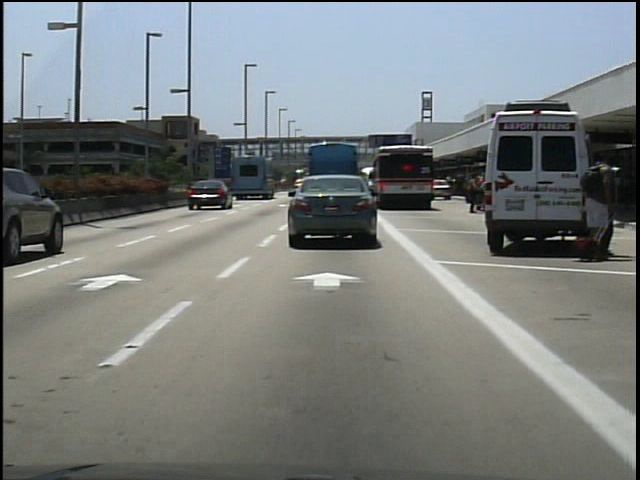person: (580, 151, 612, 266), (603, 166, 616, 252), (465, 172, 484, 220)
